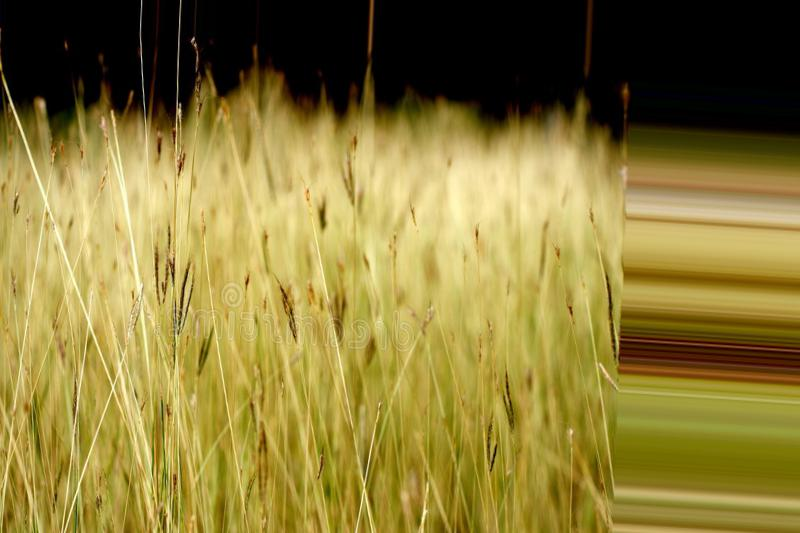patch: (34, 104, 501, 500)
